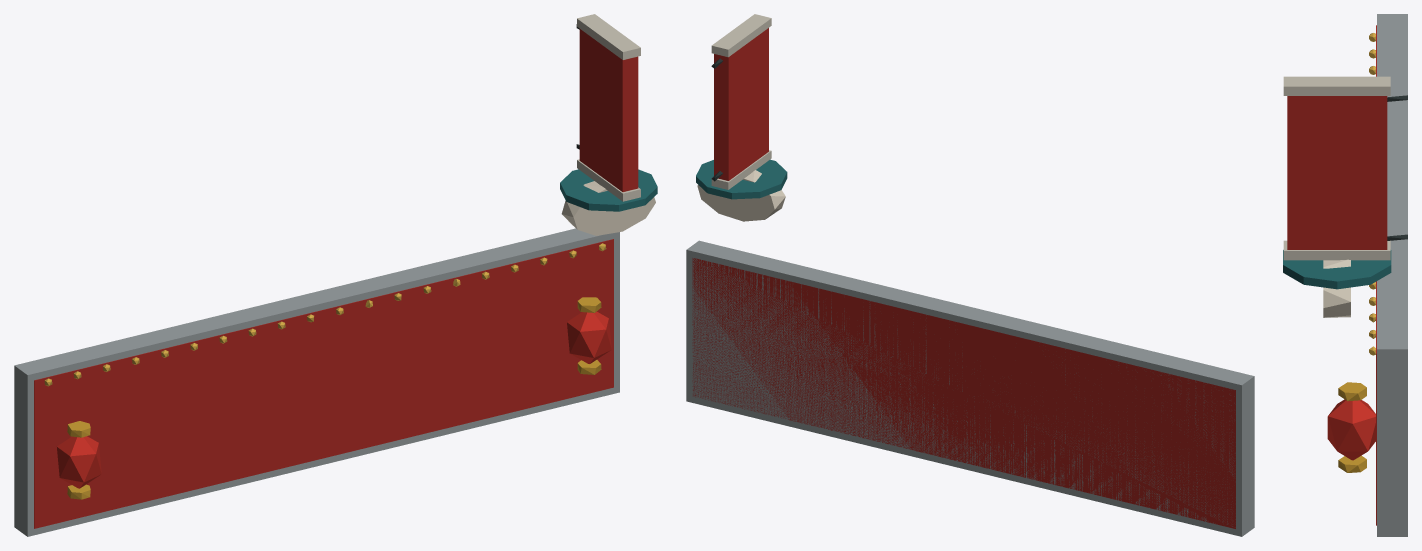
The model's file is bang_hu_tieu_mi_nam_cuong_48.glb.
3 views of the same model, side by side, from view 1: azimuth 30°, elevation 25°; view 2: azimuth 150°, elevation 25°; view 3: azimuth 270°, elevation 25° (orthographic). The views are drawn at different scales.
Visible parts, largest first — view 1: bang_hu_tieu_mi_nam_cuong_48; view 2: bang_hu_tieu_mi_nam_cuong_48; view 3: bang_hu_tieu_mi_nam_cuong_48.
Part boxes in pixels (bbox=[...]): bang_hu_tieu_mi_nam_cuong_48: bbox=[14, 14, 657, 536]; bang_hu_tieu_mi_nam_cuong_48: bbox=[686, 14, 1254, 536]; bang_hu_tieu_mi_nam_cuong_48: bbox=[1283, 14, 1407, 536].
Bounding box in the file's own units: 4.71 × 2.81 × 0.7238.
